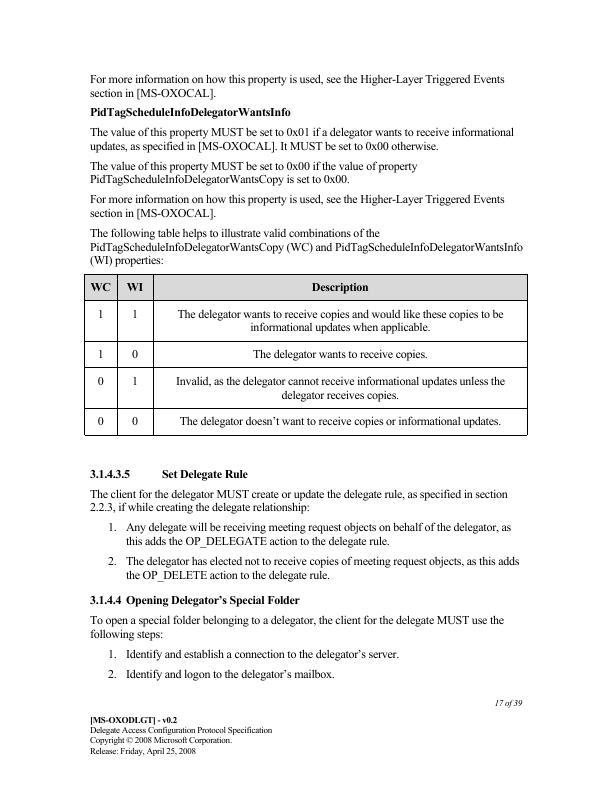table: (82, 273, 530, 438)
text: (88, 223, 525, 270), (87, 70, 508, 102), (87, 125, 519, 155), (102, 554, 523, 582), (87, 614, 508, 642), (102, 521, 519, 549), (87, 488, 509, 515), (86, 193, 505, 220), (88, 159, 419, 185), (88, 715, 274, 755), (102, 646, 402, 664), (102, 667, 339, 682), (83, 463, 250, 484), (86, 591, 301, 606), (87, 105, 294, 120), (490, 694, 527, 707)
